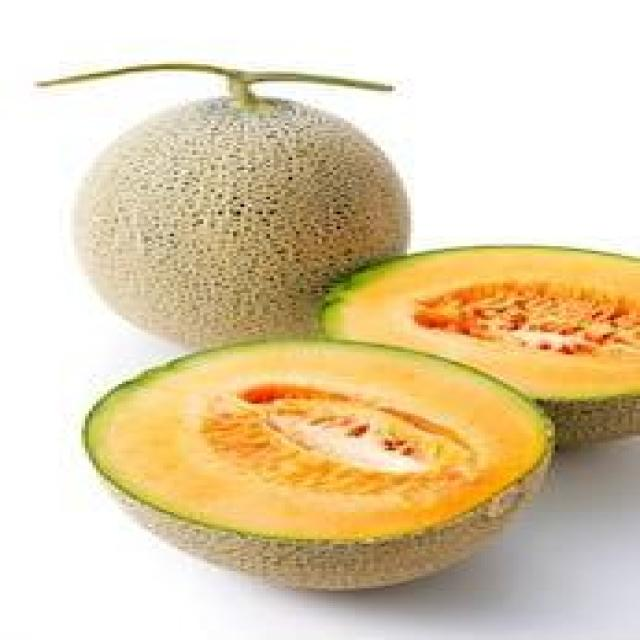cantaloupe: (81, 336, 558, 594), (35, 60, 415, 346), (322, 244, 640, 448)
